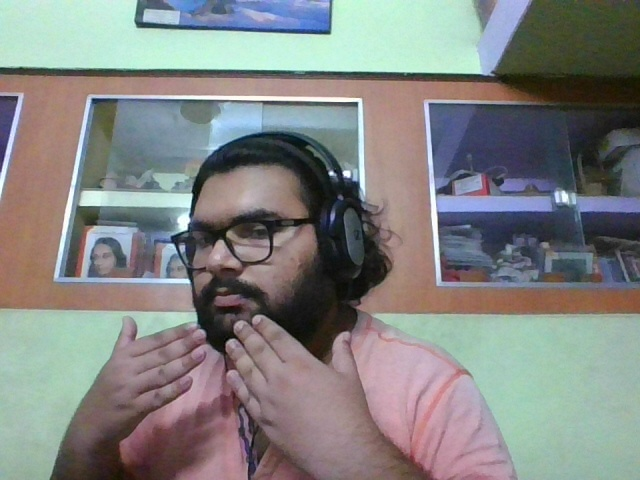thankyou: (82, 314, 380, 449)
